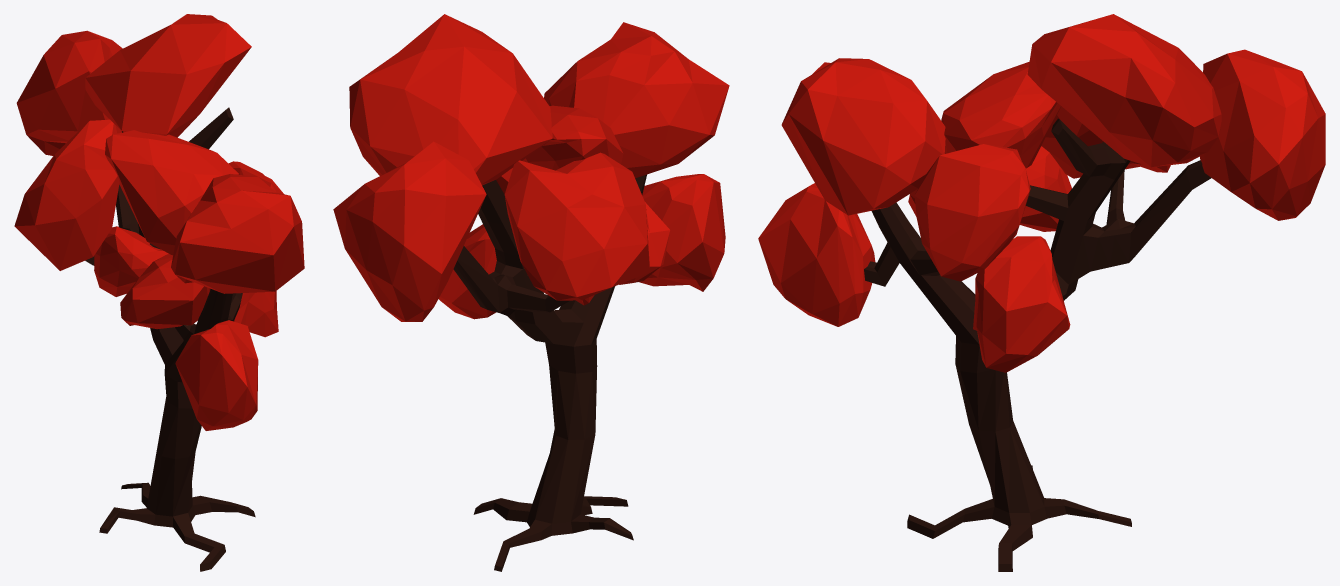
Rendered from t1-orange.obj.
3 renders of one model, left to right at view 1: azimuth 30°, elevation 25°; view 2: azimuth 150°, elevation 25°; view 3: azimuth 270°, elevation 25°, orthographic. The views are drawn at different scales.
Visible parts, largest first — view 1: t1-orange_Cylinder.022; view 2: t1-orange_Cylinder.022; view 3: t1-orange_Cylinder.022.
Part boxes in pixels (x1,y1,x2,y2): t1-orange_Cylinder.022: [14, 14, 304, 571]; t1-orange_Cylinder.022: [333, 14, 729, 571]; t1-orange_Cylinder.022: [758, 14, 1325, 571].
Size of the model in its own units: 6.06 by 11.75 by 11.01.
